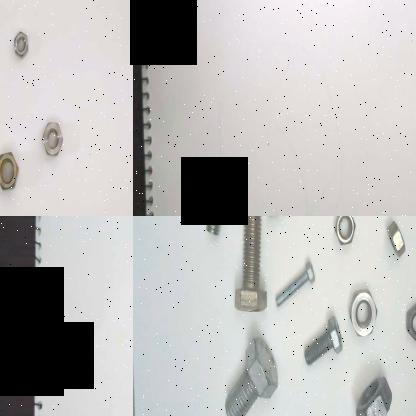Bolts: (219, 329, 279, 416), (230, 216, 271, 316), (301, 314, 345, 376), (274, 258, 316, 310), (197, 216, 237, 241)
NUTS: (349, 371, 395, 416), (348, 286, 378, 346), (384, 216, 410, 261), (41, 120, 65, 162), (333, 216, 359, 254), (0, 147, 18, 194), (12, 29, 30, 61), (405, 301, 416, 345)
